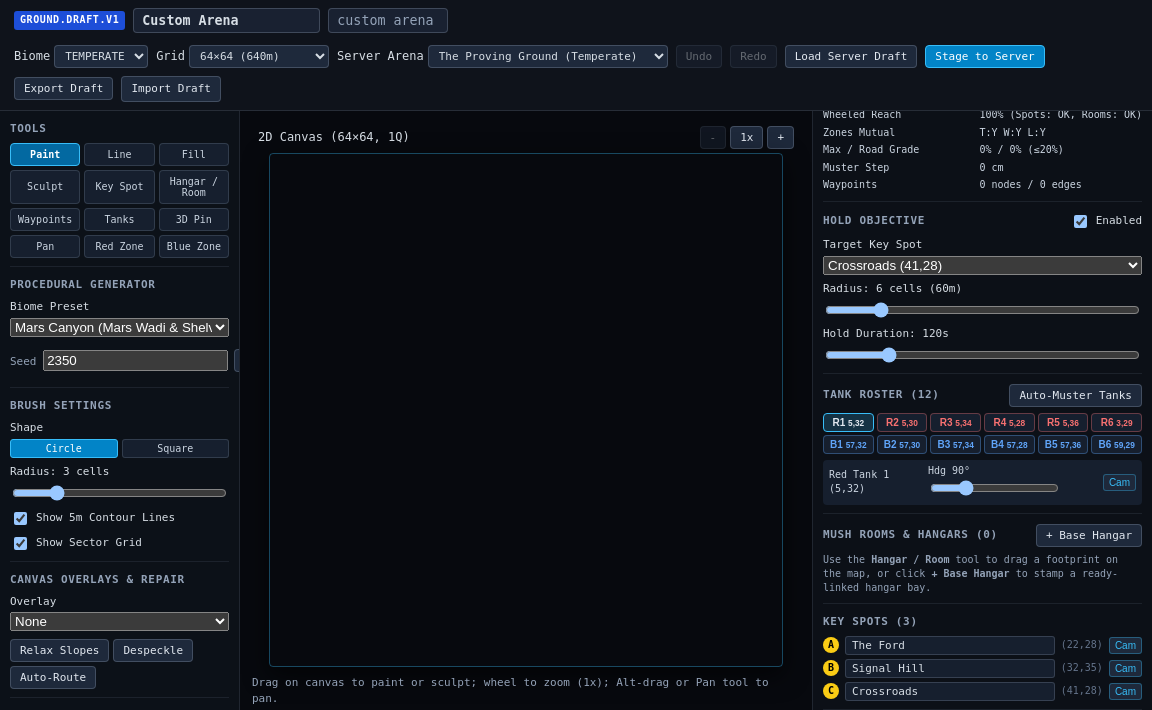
MapEditorStudio (WG.4 ground.draft.v1) › stamps a Base Hangar and links it to a MUSH neighborhood room
The image size is (1152, 710).
(page scrolled)
Expected: the element with test id "mush-rooms-panel" is shown, [823,524,1142,604]
Click the button "+ Base Hangar" at (1089, 535), box [1036,524,1142,547]
(page scrolled)
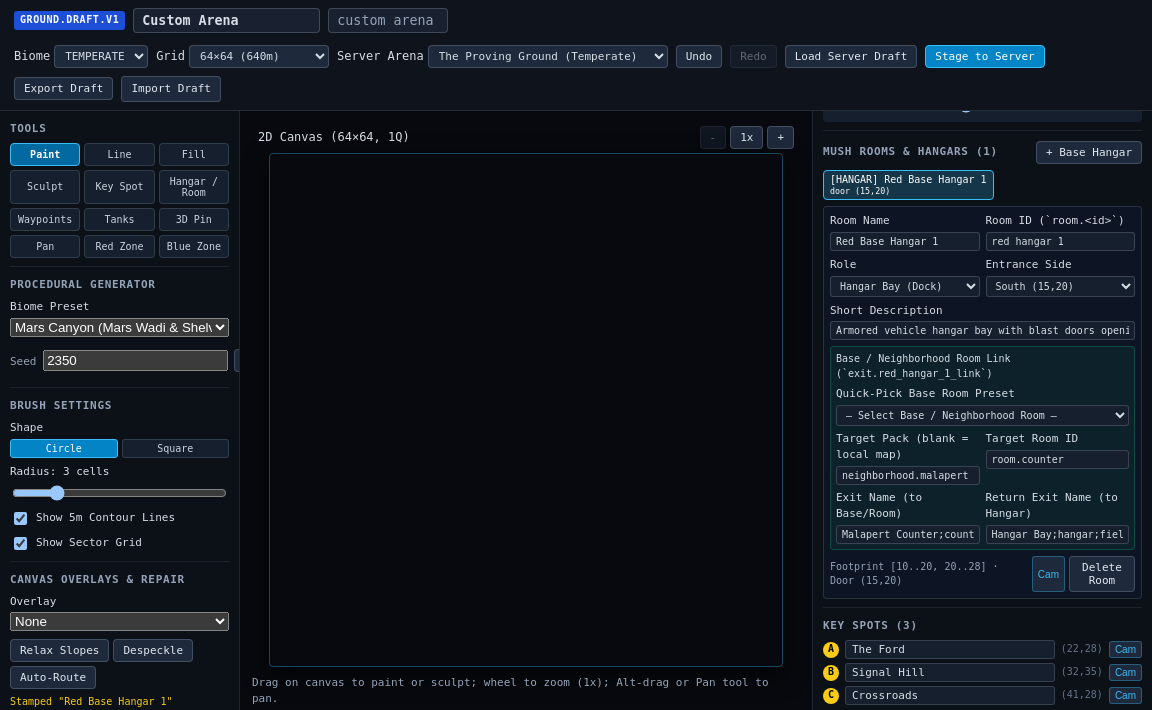
Select "Ahuna Flank — Landing Pad (Dock) (neighborhood.ahuna_flank:room.pad)" in the dropdown labelled "Quick-Pick Base Room Preset" at (982, 416), box [836,405,1129,426]
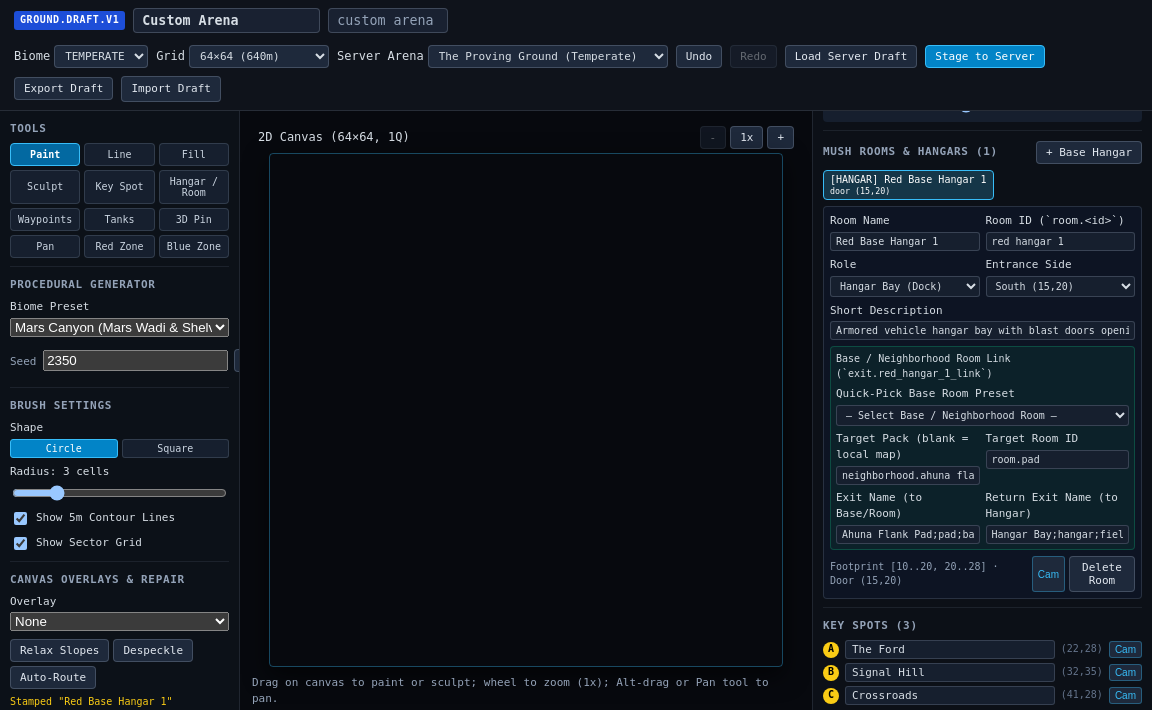
Expected: the field named "Linked pack ID" holds "neighborhood.ahuna_flank", [836,466,980,485]
